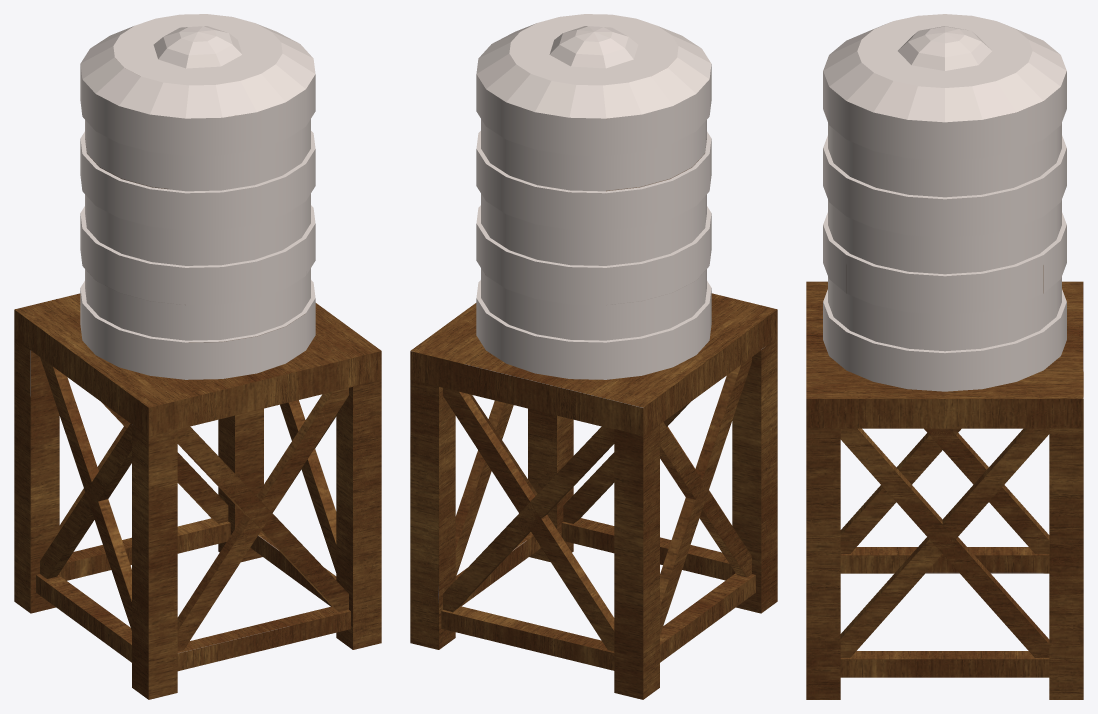
Rendered from WaterTank.fbx.
The picture shows the model from 3 angles, left to right: view 1: azimuth 30°, elevation 25°; view 2: azimuth 150°, elevation 25°; view 3: azimuth 270°, elevation 25°; orthographic projection. The views are drawn at different scales.
Parts seen in each view (by area): view 1: WaterTank; view 2: WaterTank; view 3: WaterTank.
Part boxes in pixels (x1,y1,x2,y2): WaterTank: (14, 14, 381, 699); WaterTank: (410, 14, 777, 699); WaterTank: (806, 14, 1083, 699).
Size of the model in its own units: 1.4 by 3.38 by 1.4.
